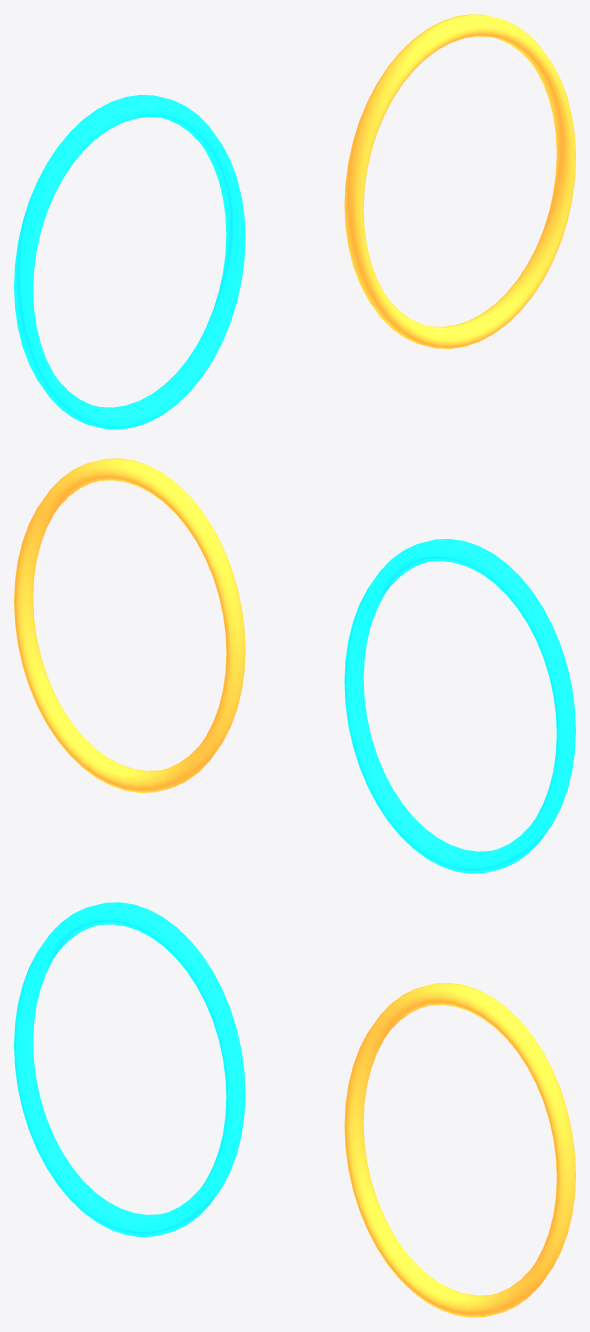
File: rims.glb
3 renders of one model, top to bottom at view 1: azimuth 30°, elevation 25°; view 2: azimuth 150°, elevation 25°; view 3: azimuth 330°, elevation 25°, orthographic.
Visible parts, largest first — view 1: Blue portal rim, Orange portal rim; view 2: Blue portal rim, Orange portal rim; view 3: Blue portal rim, Orange portal rim.
Boxes of the visible parts, x1,y1,x2,y2 form: Blue portal rim: [14, 95, 245, 429]; Orange portal rim: [344, 14, 575, 348]; Blue portal rim: [344, 539, 575, 873]; Orange portal rim: [14, 458, 245, 792]; Blue portal rim: [14, 902, 245, 1236]; Orange portal rim: [344, 983, 575, 1317].
Bounding box in the file's own units: 2.19 × 1.23 × 0.0915.
